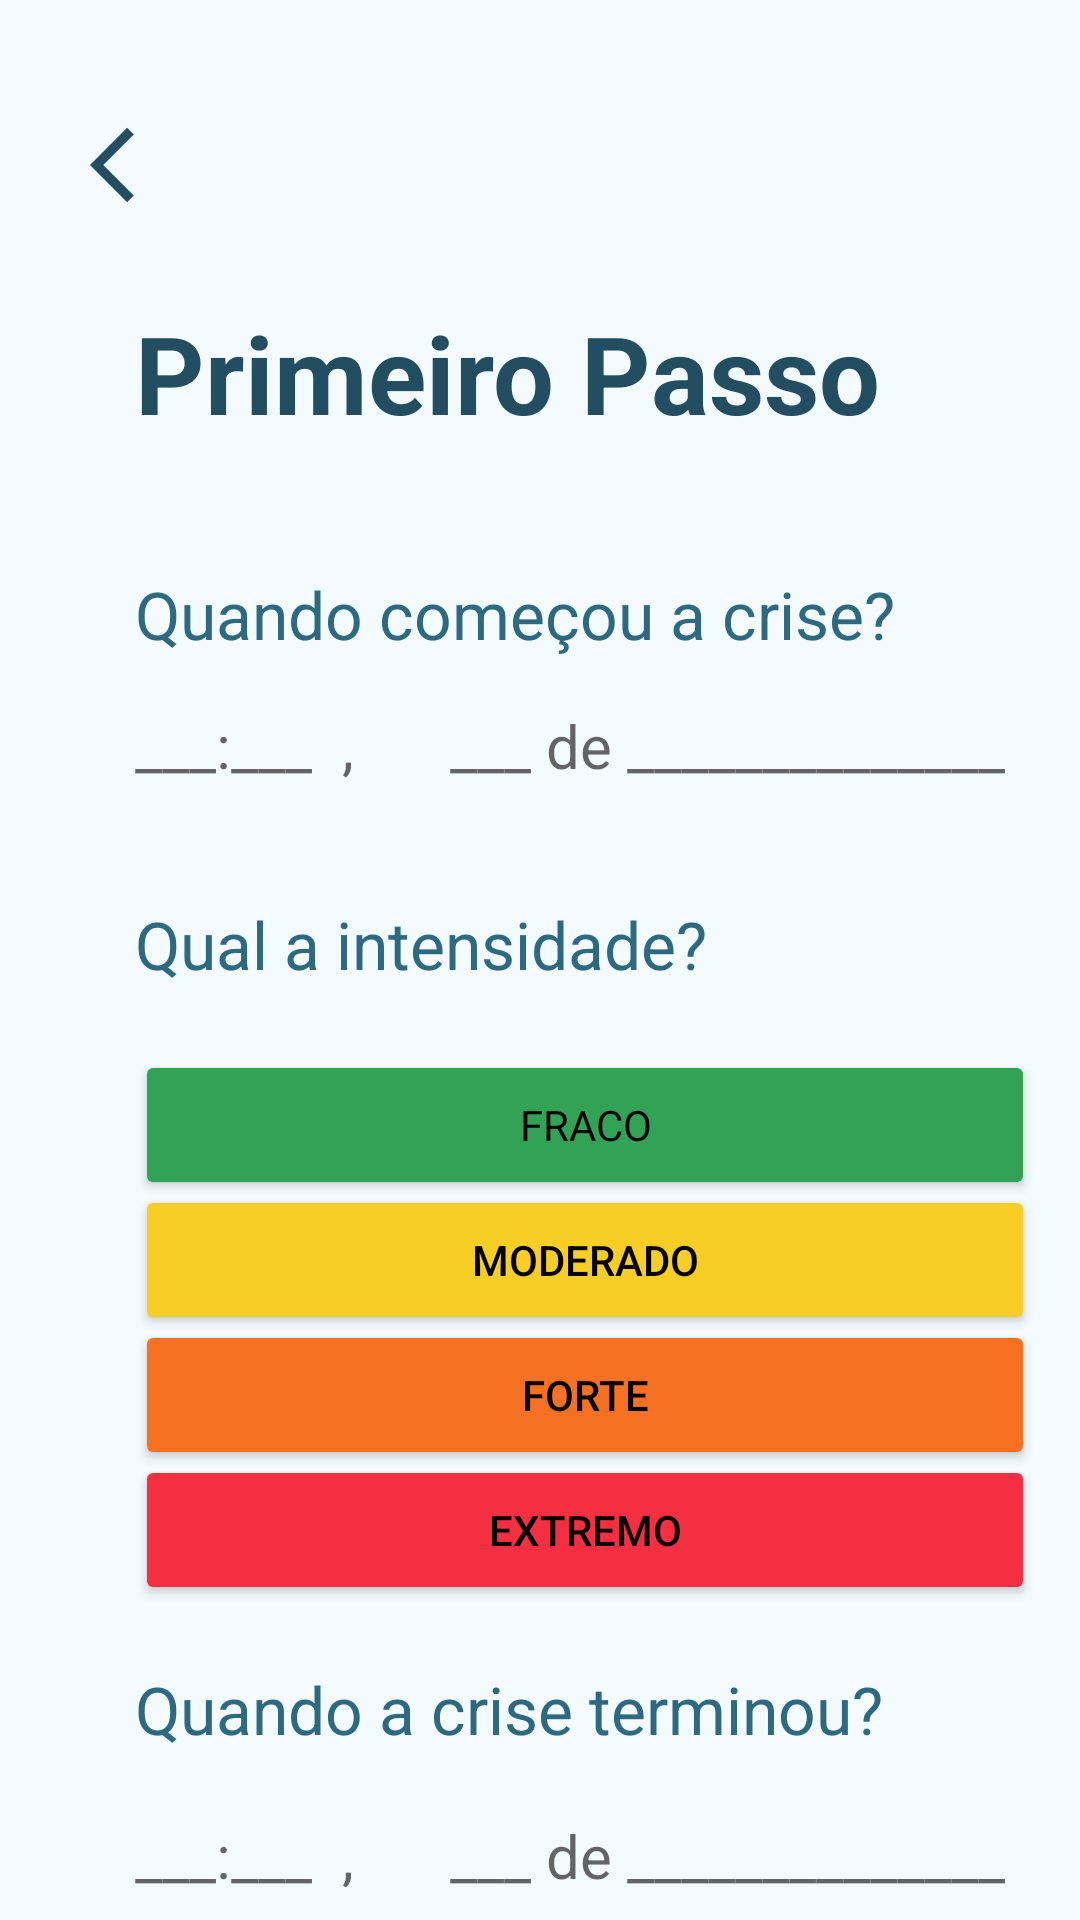

Locate icon controls on the screen. Image size 1080w x 1920h, boxes as (x1, y1, x2, y2).
voltarrr: (90, 128, 134, 202)
